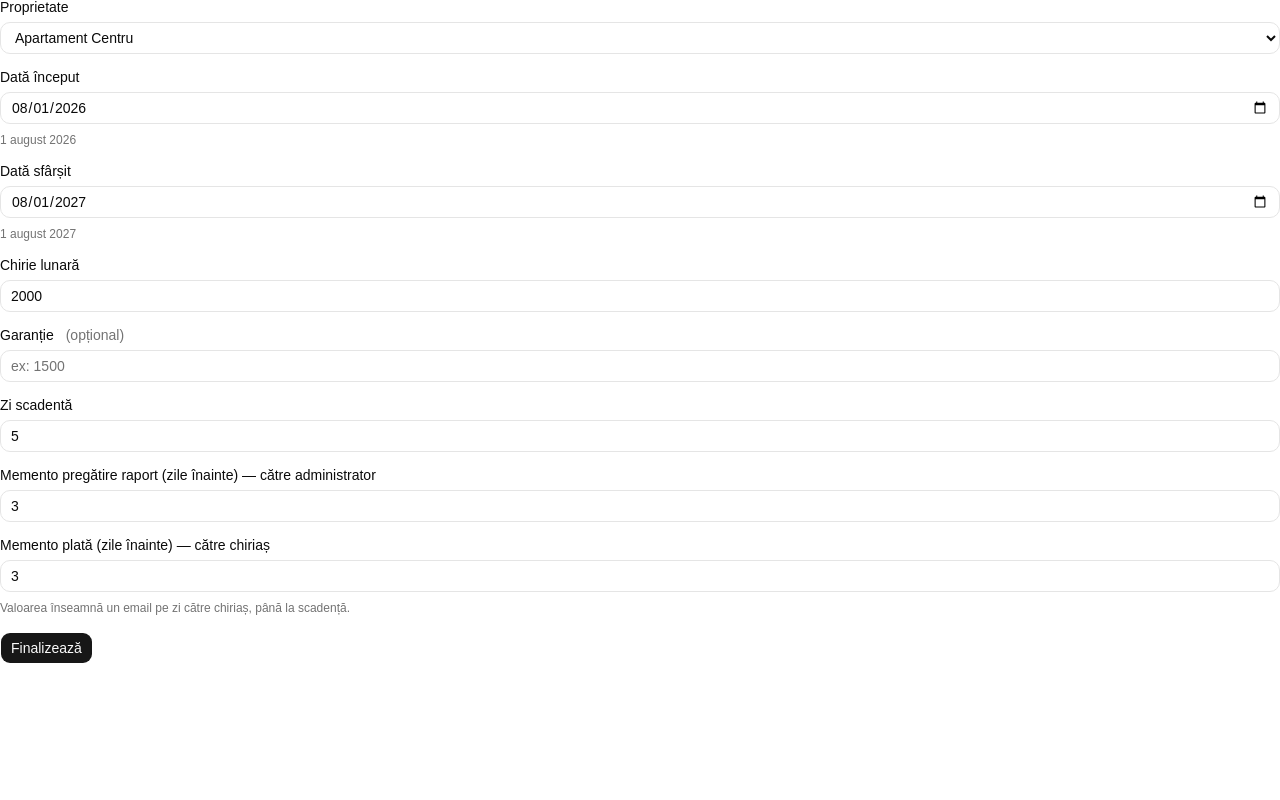
StepContract — finalize errors › duplicate CNP shows a blocking dialog with the conflicting name + a link to their profile
Click the button "Finalizează" at (46, 648), box [0,632,93,664]
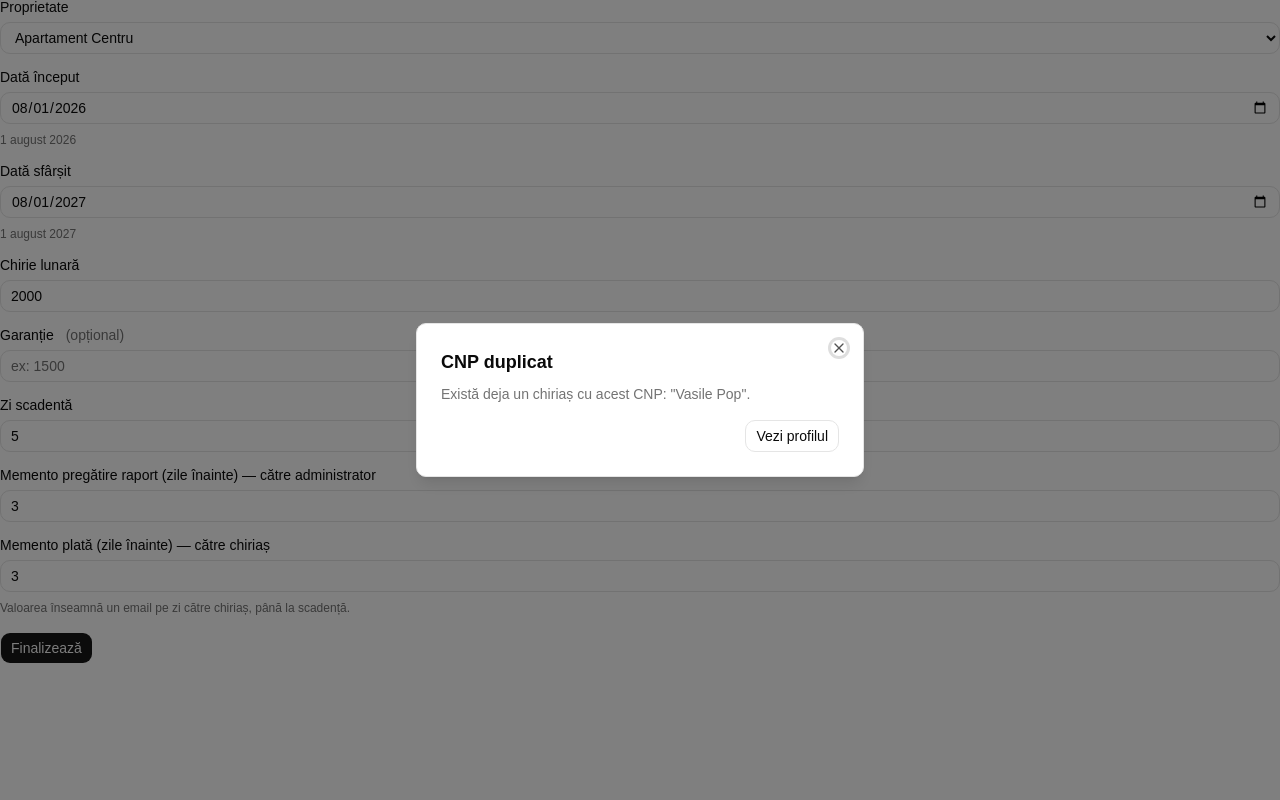
Result: the text "Există deja un chiriaș cu acest CNP: \"Vasile Pop\"." is shown at [441,386,750,402]
